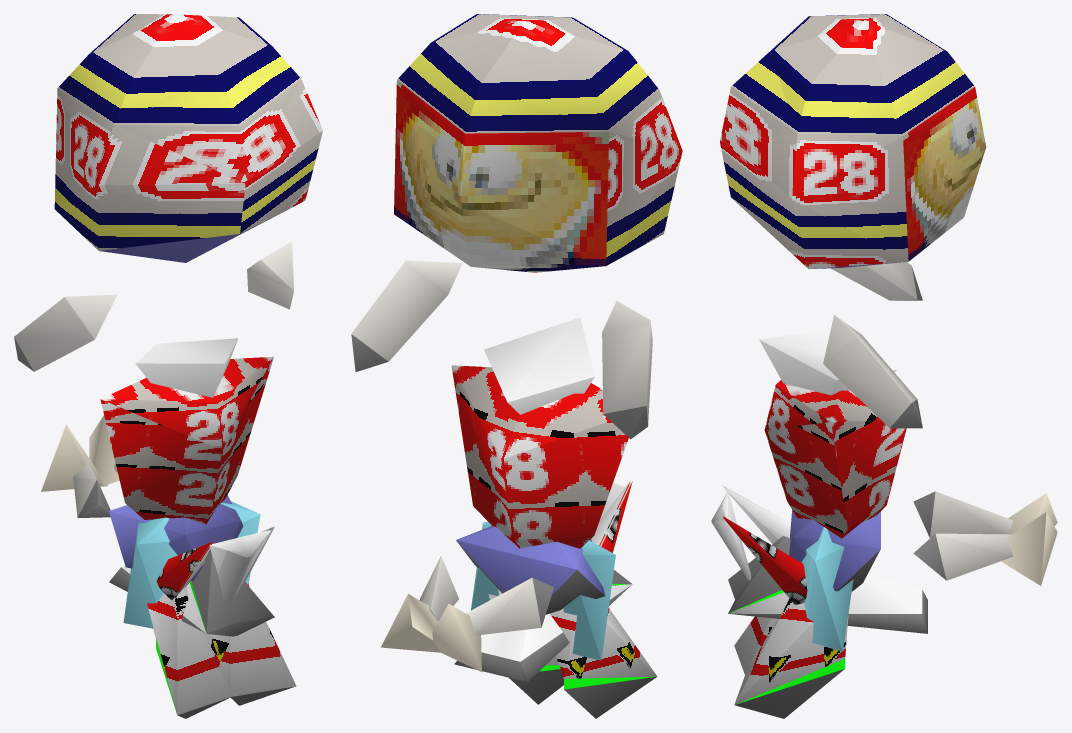
File: uvmd-0343.glb
3 views of the same model, side by side, from view 1: azimuth 30°, elevation 25°; view 2: azimuth 150°, elevation 25°; view 3: azimuth 270°, elevation 25° (orthographic). The views are drawn at different scales.
Visible parts, largest first — view 1: uvmd-0343; view 2: uvmd-0343; view 3: uvmd-0343.
Boxes of the visible parts, box(x1,y1,x2,y2) form: uvmd-0343: box(14, 14, 322, 718); uvmd-0343: box(351, 14, 682, 718); uvmd-0343: box(711, 14, 1057, 718).
Bounding box in the file's own units: 58.42 × 136 × 62.39.
6 materials, 6 textured.
